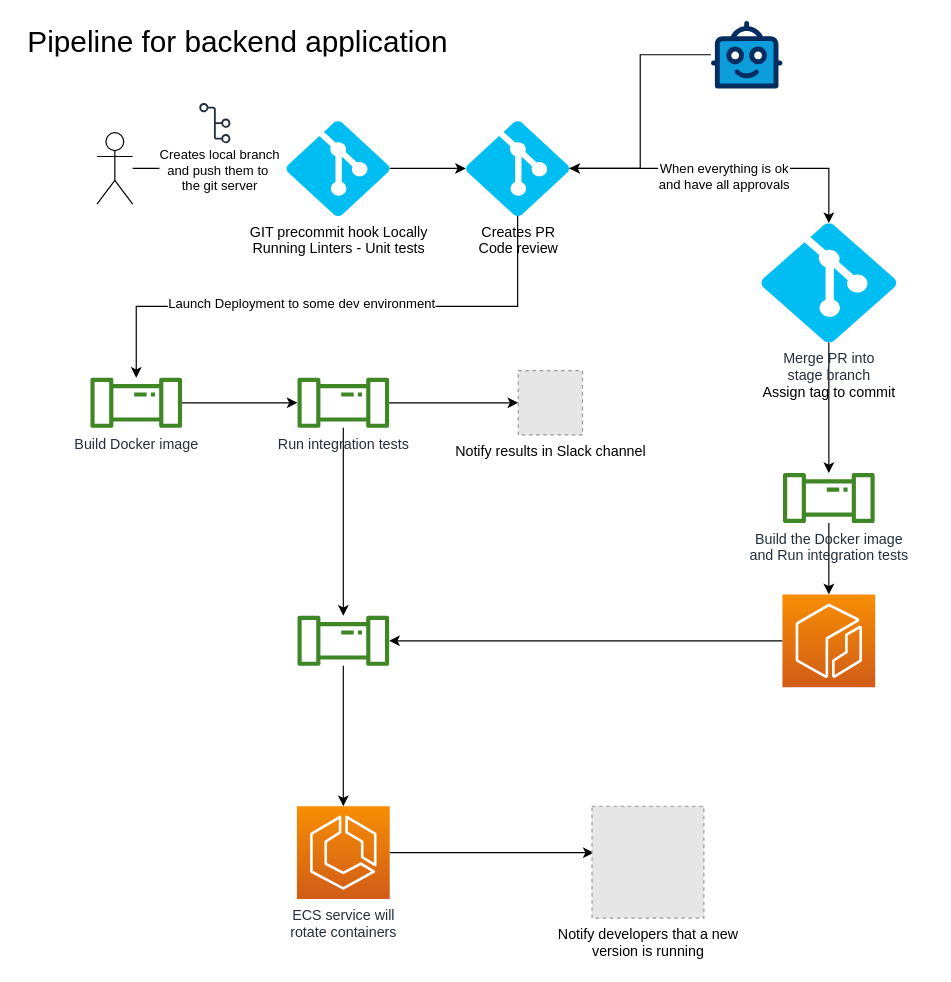
This 951x982 diagram has some shape labels left out. Grey dashed boxes stand in for pictures. The shapes that lost their labels are listed below. From the top down, each one's box as (x1, y1, x2, y2) in pixels, then its label:
(710, 20, 782, 89): Run security bot when PR is created
(96, 131, 133, 204): Developer
(296, 615, 389, 665): Run Terraform plan to update ECS
(781, 593, 875, 687): Publish image and security scan in ECR
